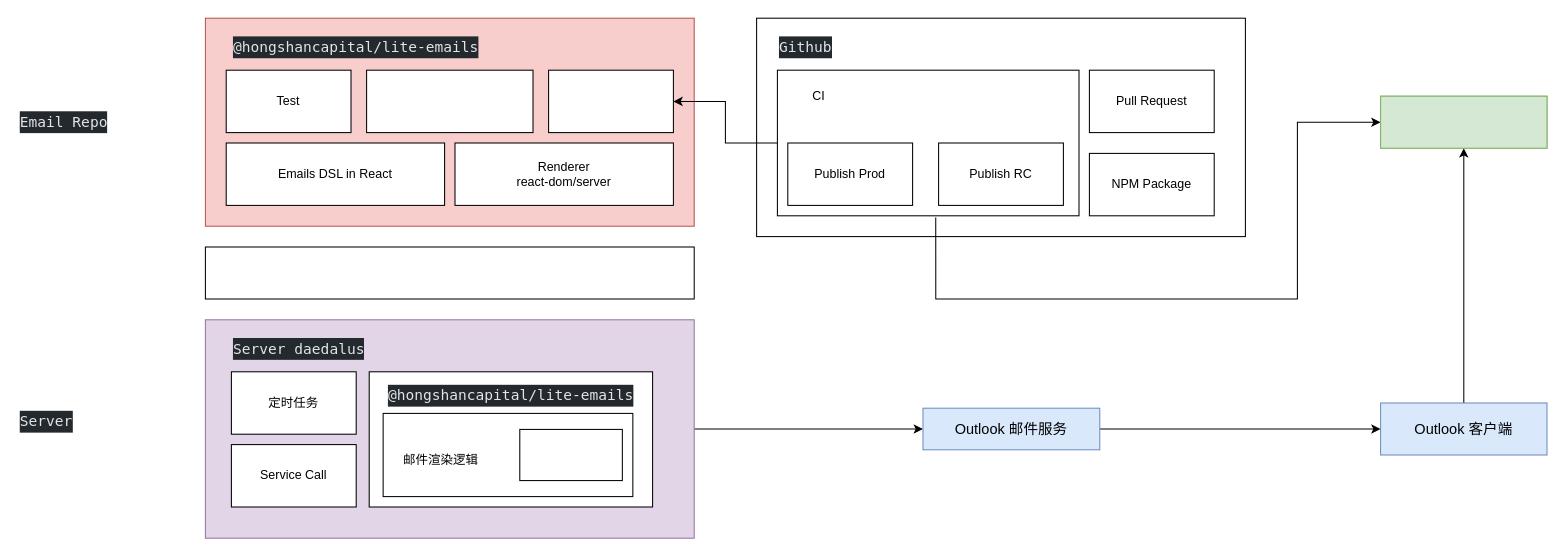
Some shapes in this 1565 by 556 pixel diagram are drawn without their labels. Here are the shapes that lost their labels. From the top down, the centre of each, then its label:
At pixel 449 101: "NextJS Dev Playground".
At pixel 610 101: "release-it".
At pixel 1463 121: "AWS S3 Bucket".
At pixel 449 272: "@hongshancapital/daedalus-schemas".
At pixel 570 454: "Email Render(Email)".
